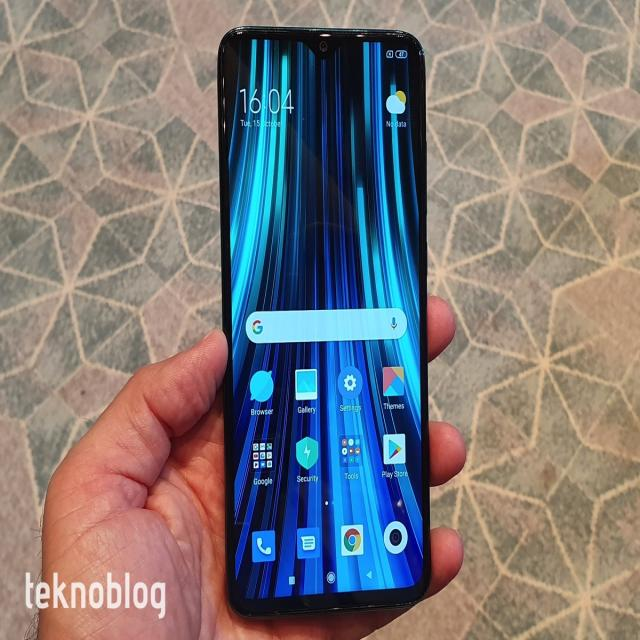Red Mi Note 8 Pro: (217, 27, 437, 622), (217, 28, 436, 622)
